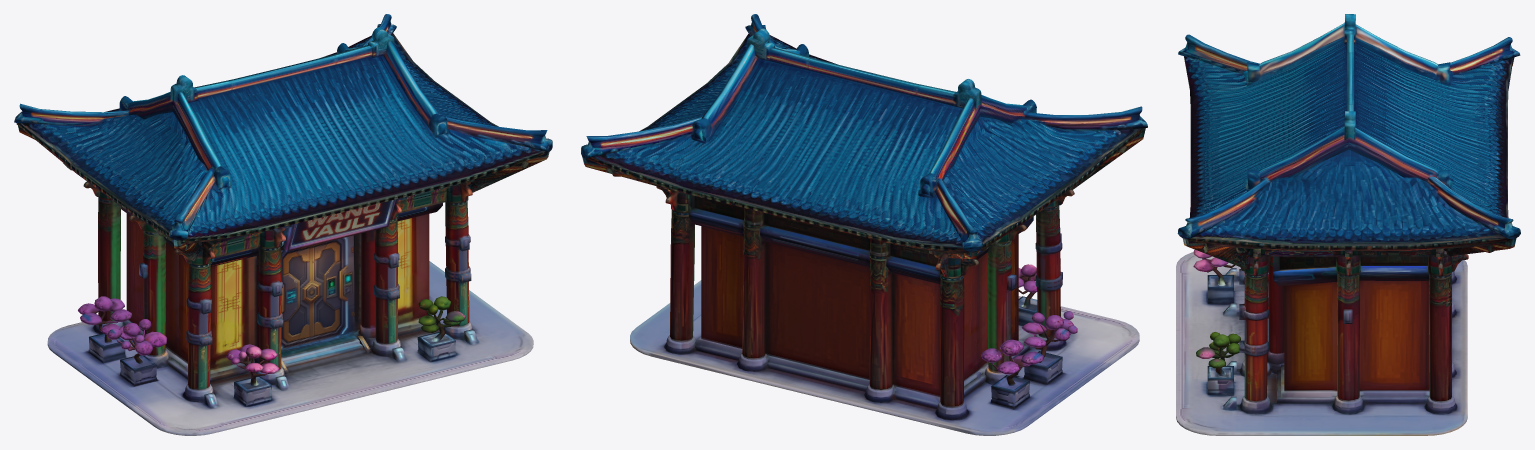
File: tripo_convert_15f88955-fde7-44b9-b7ca-4abcad67aa19.fbx
The picture shows the model from 3 angles, left to right: view 1: azimuth 30°, elevation 25°; view 2: azimuth 150°, elevation 25°; view 3: azimuth 270°, elevation 25°; orthographic projection. The views are drawn at different scales.
Parts seen in each view (by area): view 1: tripo_node_15f88955; view 2: tripo_node_15f88955; view 3: tripo_node_15f88955.
Boxes of the visible parts, left/top/right/bottom form: tripo_node_15f88955: left=14, top=14, right=552, bottom=435; tripo_node_15f88955: left=581, top=14, right=1147, bottom=435; tripo_node_15f88955: left=1176, top=14, right=1520, bottom=435.
Size of the model in its own units: 0.9995 by 0.7046 by 0.7661.
Materials: 1 (1 with a texture image).
